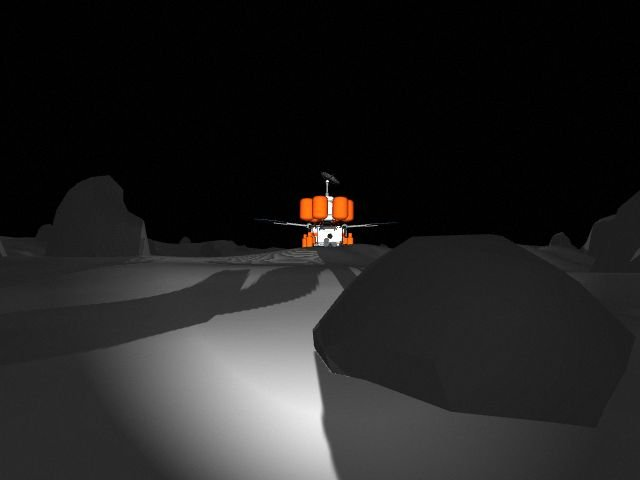homebase: (250, 169, 407, 260)
